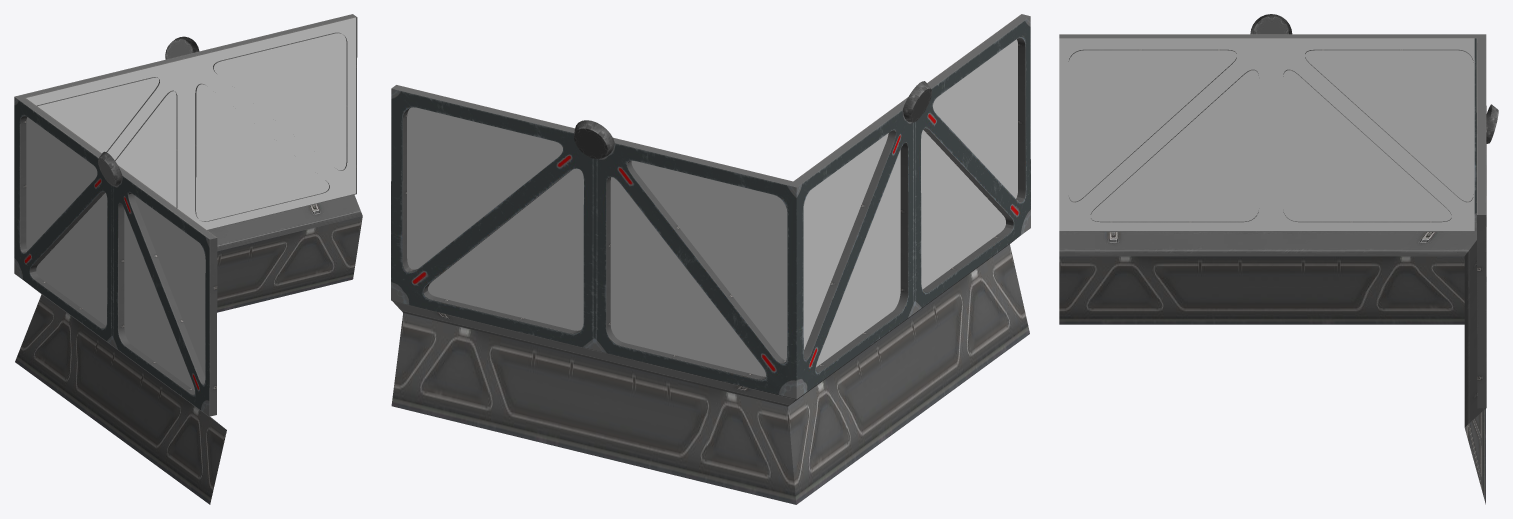
Rendered from wallwindow_corner_square_outer.gltf.
3 renders of one model, left to right at view 1: azimuth 30°, elevation 25°; view 2: azimuth 150°, elevation 25°; view 3: azimuth 270°, elevation 25°, orthographic. The views are drawn at different scales.
Parts seen in each view (by area): view 1: WallWindow_Corner_Square_Outer; view 2: WallWindow_Corner_Square_Outer; view 3: WallWindow_Corner_Square_Outer.
Part boxes in pixels (left/top/right/bottom): WallWindow_Corner_Square_Outer: left=14, top=14, right=362, bottom=504; WallWindow_Corner_Square_Outer: left=391, top=14, right=1030, bottom=504; WallWindow_Corner_Square_Outer: left=1059, top=14, right=1498, bottom=504.
Bounding box in the file's own units: 4.12 × 3.19 × 4.12.
Materials: 4 (3 with a texture image).
